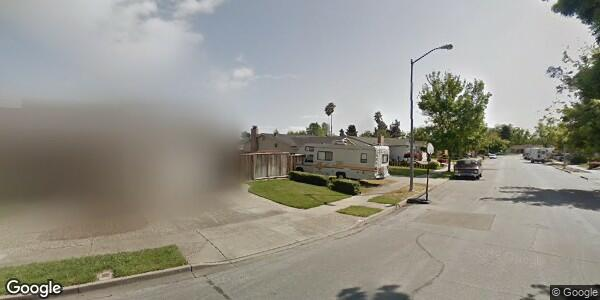Steel_Pole: (407, 40, 457, 199)
